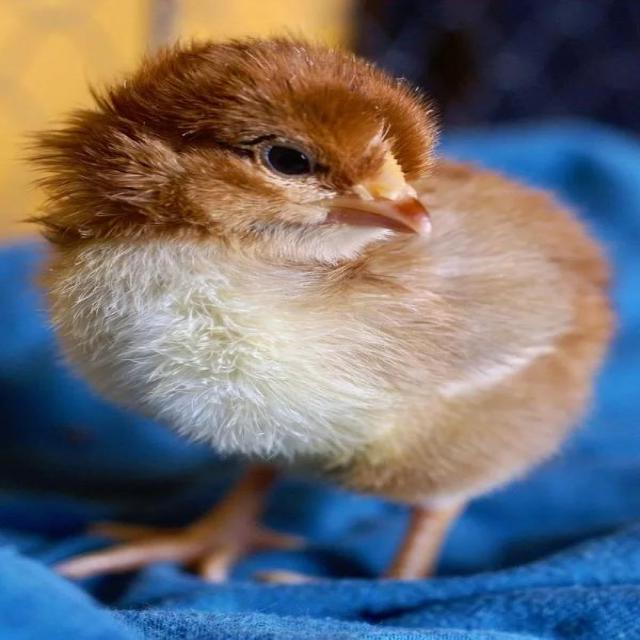poussin: (26, 35, 615, 575)
